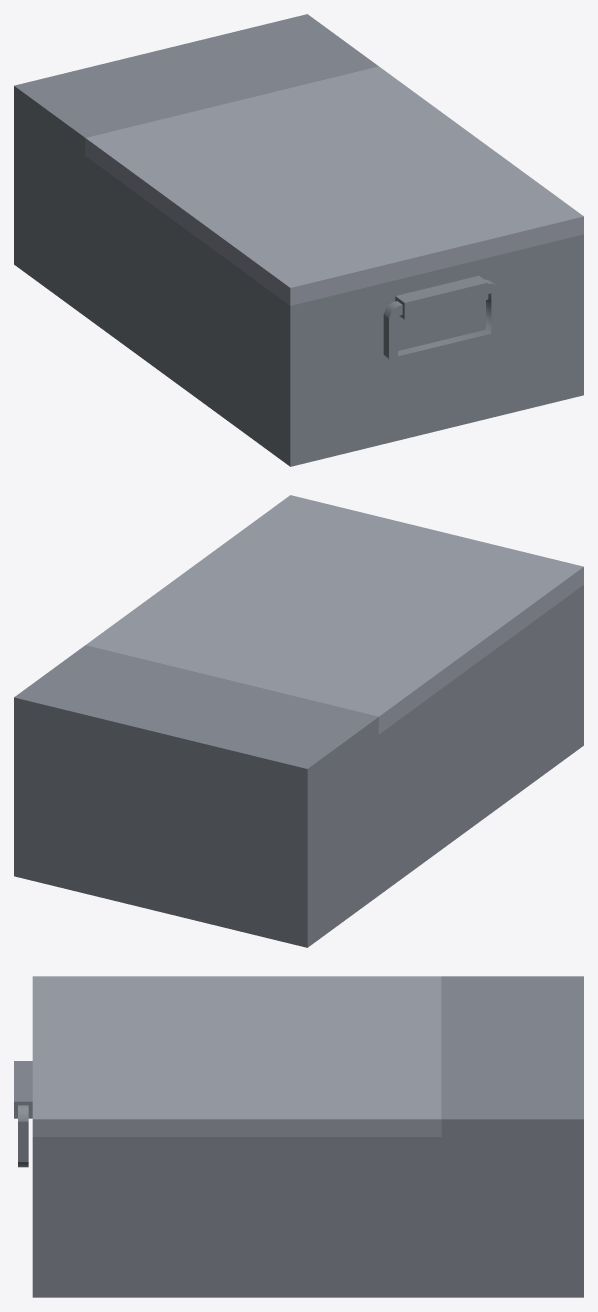
Rendered from Prop_SafeDepositBox_Container_01.glb.
The picture shows the model from 3 angles, top to bottom: view 1: azimuth 30°, elevation 25°; view 2: azimuth 150°, elevation 25°; view 3: azimuth 270°, elevation 25°; orthographic projection.
Parts seen in each view (by area): view 1: SM_Prop_SafeDepositBox_Container_01, SM_Prop_SafeDepositBox_Container_Lid_01; view 2: SM_Prop_SafeDepositBox_Container_01, SM_Prop_SafeDepositBox_Container_Lid_01; view 3: SM_Prop_SafeDepositBox_Container_01, SM_Prop_SafeDepositBox_Container_Lid_01.
Boxes of the visible parts, x1=… form: SM_Prop_SafeDepositBox_Container_01: x1=14, y1=14, x2=583, y2=466; SM_Prop_SafeDepositBox_Container_Lid_01: x1=85, y1=66, x2=583, y2=305; SM_Prop_SafeDepositBox_Container_01: x1=14, y1=585, x2=583, y2=947; SM_Prop_SafeDepositBox_Container_Lid_01: x1=86, y1=495, x2=583, y2=734; SM_Prop_SafeDepositBox_Container_01: x1=14, y1=976, x2=583, y2=1297; SM_Prop_SafeDepositBox_Container_Lid_01: x1=32, y1=976, x2=441, y2=1136.
Size of the model in its own units: 0.5362 by 0.3122 by 0.9044.
Materials: 1 (1 with a texture image).
